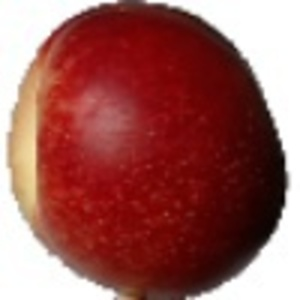nectarina: (2, 1, 288, 300)
